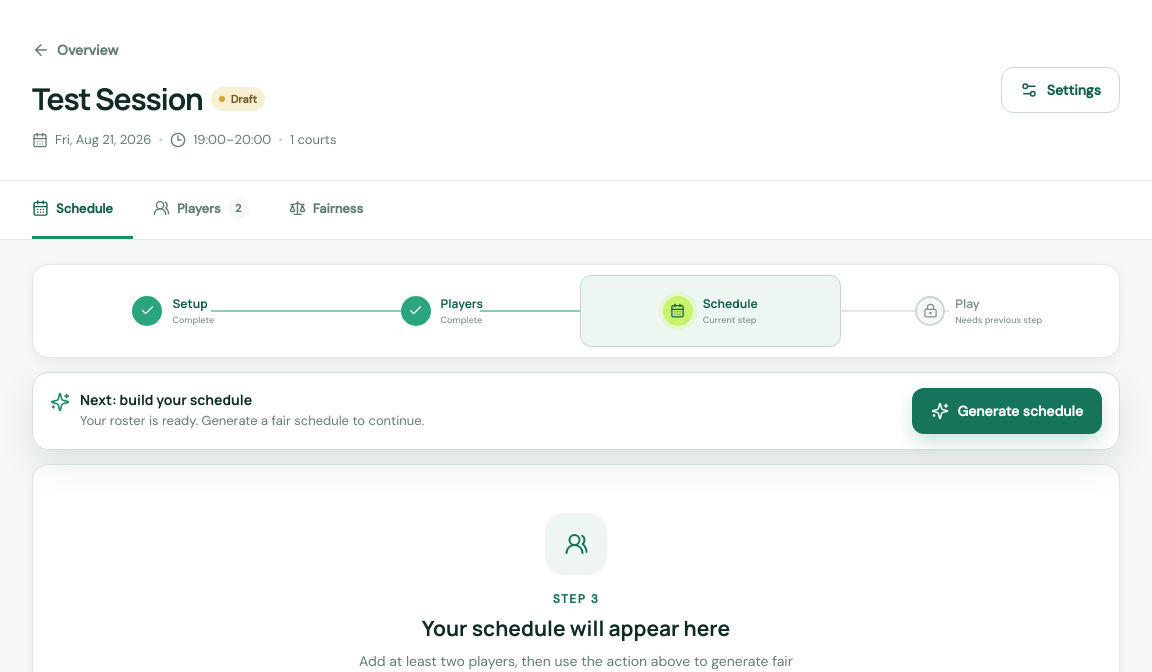
it: SessionPage lifecycle › generates a schedule and starts the session after confirmation
The width and height of the screenshot is (1152, 672).
Step 1. Click the button "Generate schedule" → x=1007, y=410, box [912,388,1102,434]
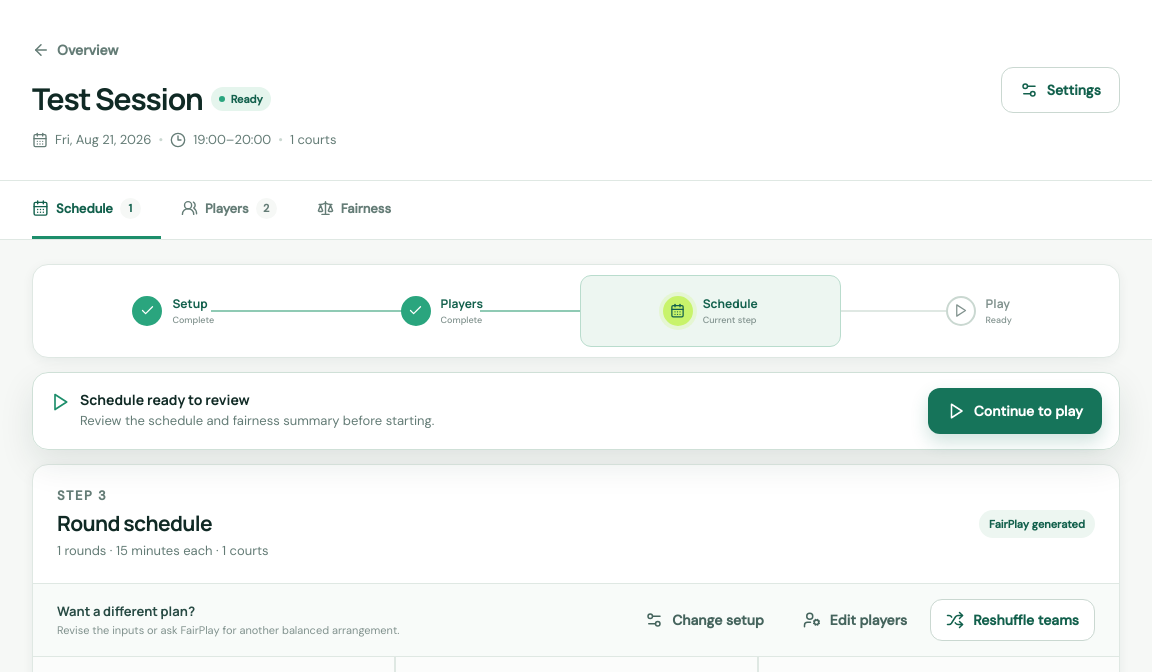
Step 2. Click the button "Continue to play" → x=1015, y=410, box [928,388,1102,434]
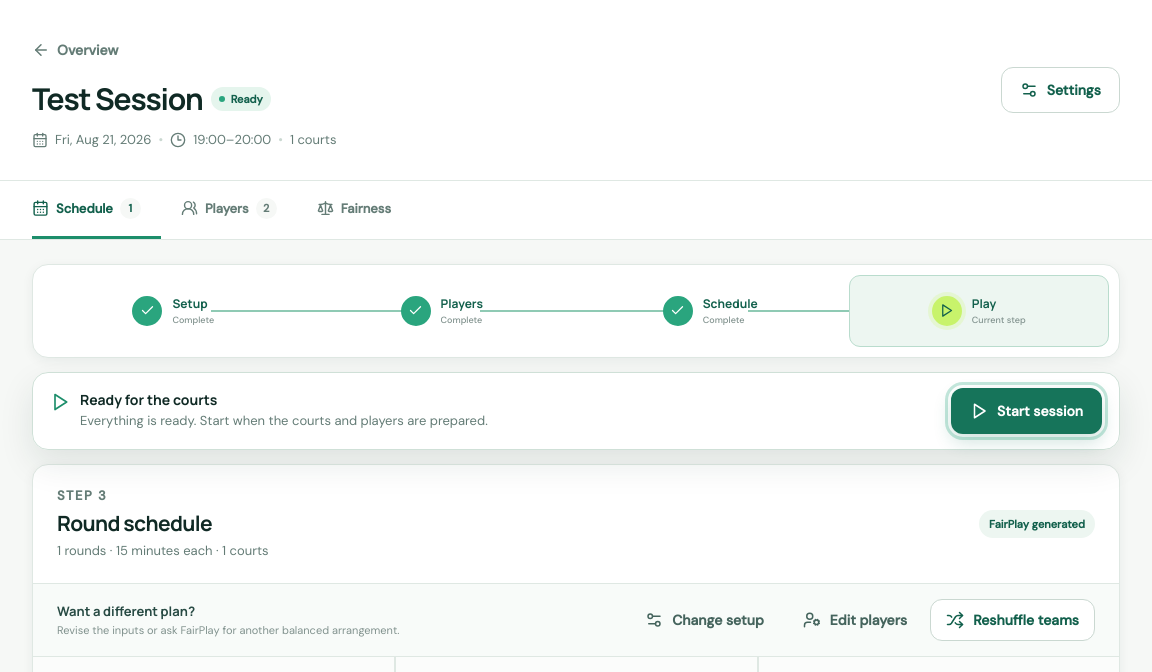
Step 3. Click the button "Start session" → x=1026, y=410, box [951,388,1102,434]
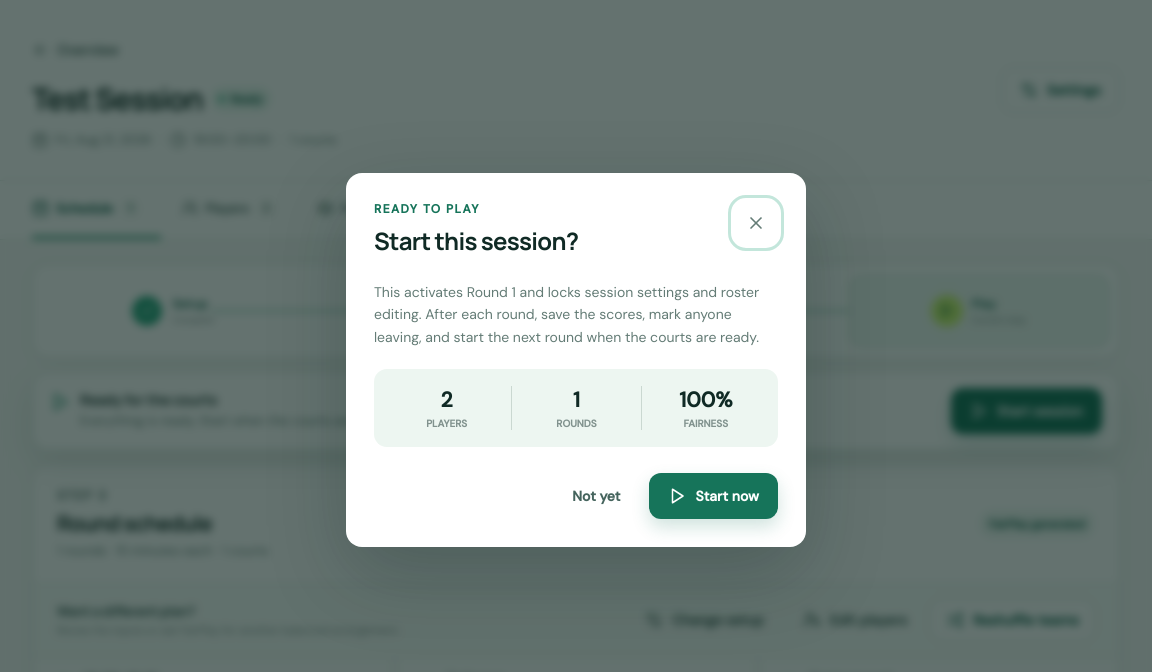
Now the dialog "Start this session" is shown, box [346,173,806,547]
Step 4. Click the button "Start now" → x=714, y=496, box [649,473,778,519]
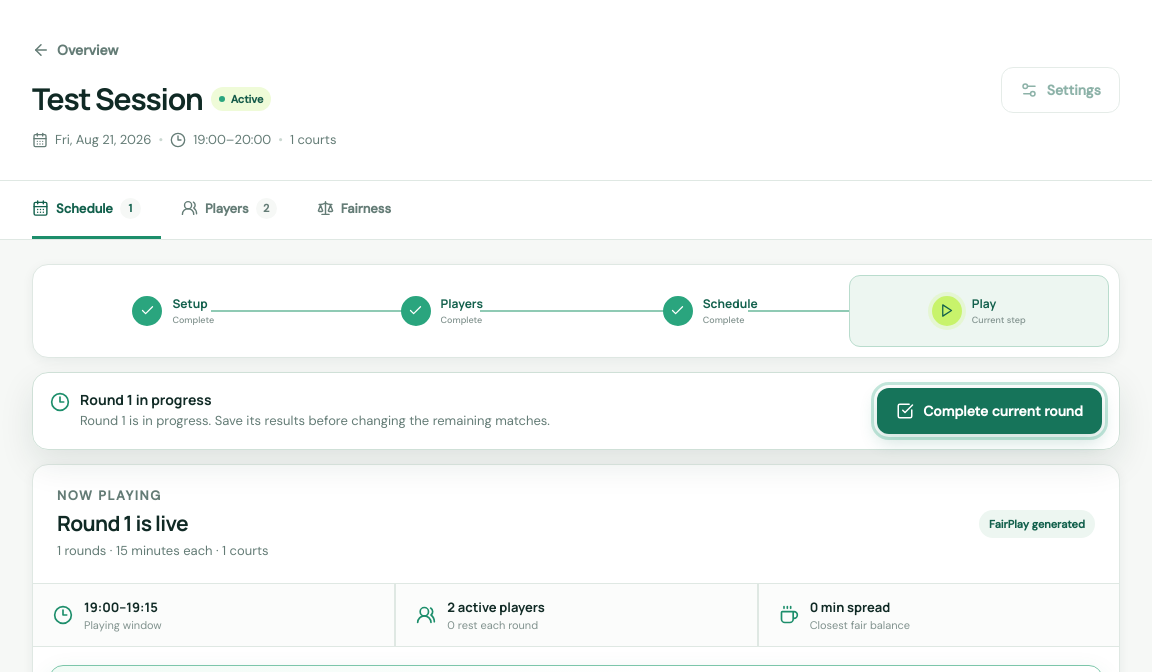
Now the text "Save its results before changing" is shown, box [80,412,550,429]
Now the button "Settings" is disabled, box [1001,67,1120,113]
Now the button "Reshuffle teams" is gone
